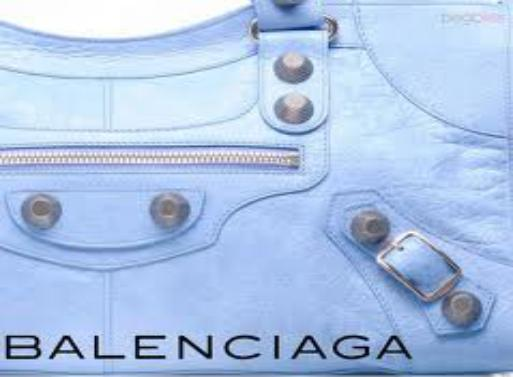BALENCIAGA: (2, 332, 416, 364)
